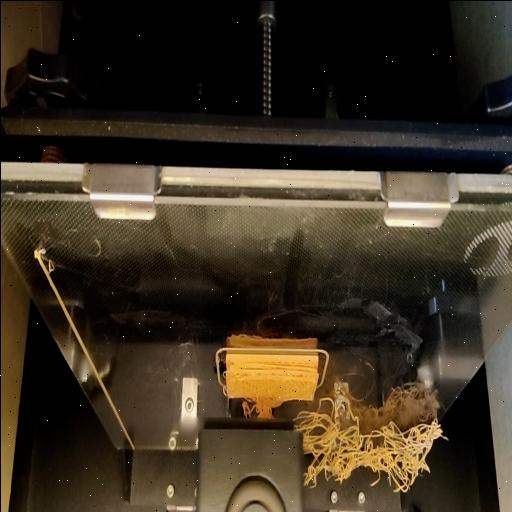spaghetti: (302, 391, 446, 494)
